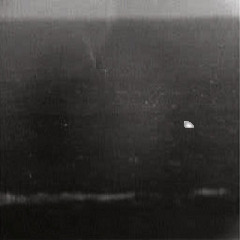Target: (183, 120, 196, 129)
